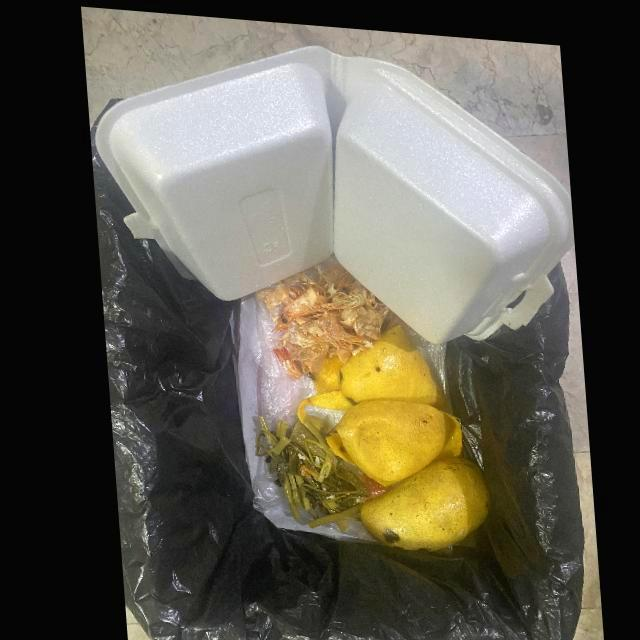left_over_food: (251, 249, 386, 376)
